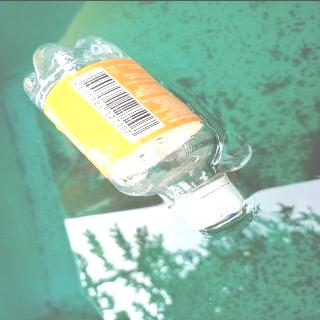bottle: (20, 32, 248, 232)
